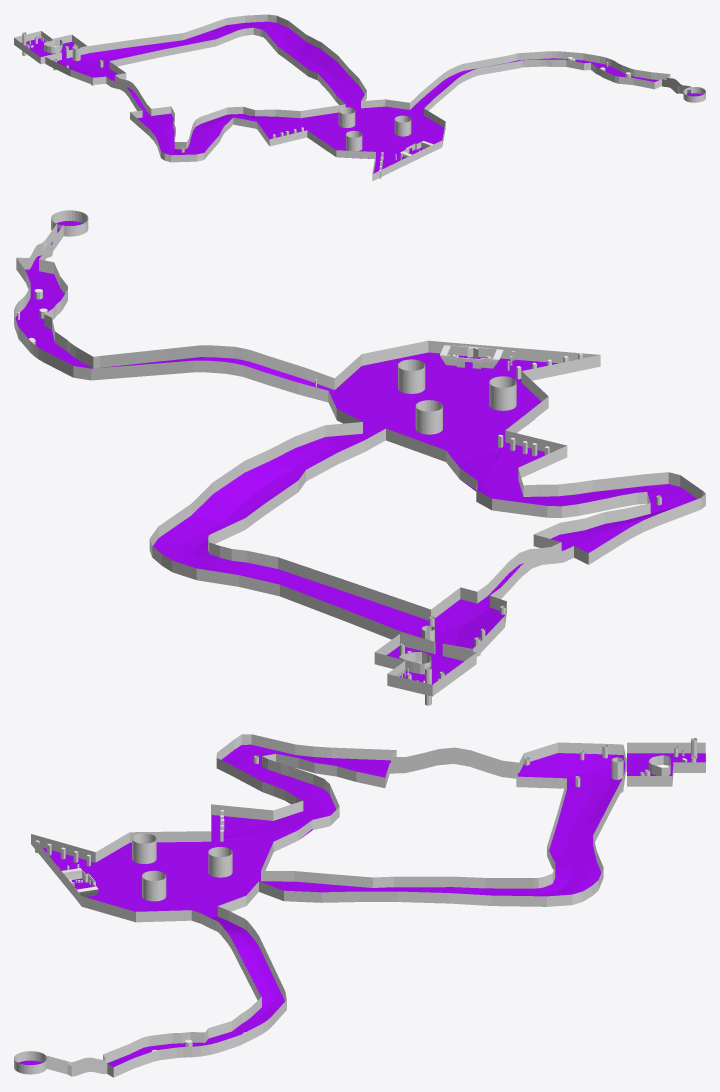
The model's file is Mesh_Navmesh.glb.
The picture shows the model from 3 angles, top to bottom: view 1: azimuth 30°, elevation 25°; view 2: azimuth 150°, elevation 25°; view 3: azimuth 270°, elevation 25°; orthographic projection. The views are drawn at different scales.
Visible parts, largest first — view 1: Mesh_Navmesh_Walls, Mesh_Navmesh_Floor; view 2: Mesh_Navmesh_Walls, Mesh_Navmesh_Floor; view 3: Mesh_Navmesh_Walls, Mesh_Navmesh_Floor.
Boxes of the visible parts, x1,y1,x2,y2 form: Mesh_Navmesh_Walls: [14, 14, 705, 181]; Mesh_Navmesh_Floor: [22, 21, 702, 173]; Mesh_Navmesh_Walls: [14, 210, 705, 705]; Mesh_Navmesh_Floor: [15, 221, 697, 684]; Mesh_Navmesh_Walls: [14, 734, 705, 1077]; Mesh_Navmesh_Floor: [18, 744, 705, 1067].
Size of the model in its own units: 307 by 19.93 by 268.
